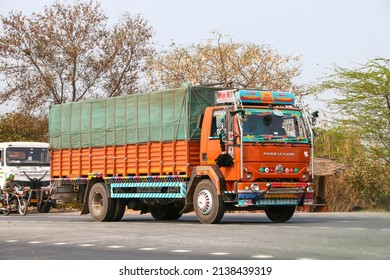motorbike: (1, 188, 27, 216)
truck: (47, 86, 317, 224), (1, 141, 52, 212)
